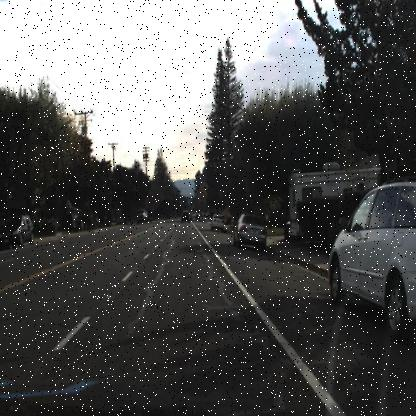car: (328, 177, 415, 342), (0, 210, 37, 246), (234, 211, 266, 250), (211, 211, 225, 231)
truck: (285, 169, 387, 242)
